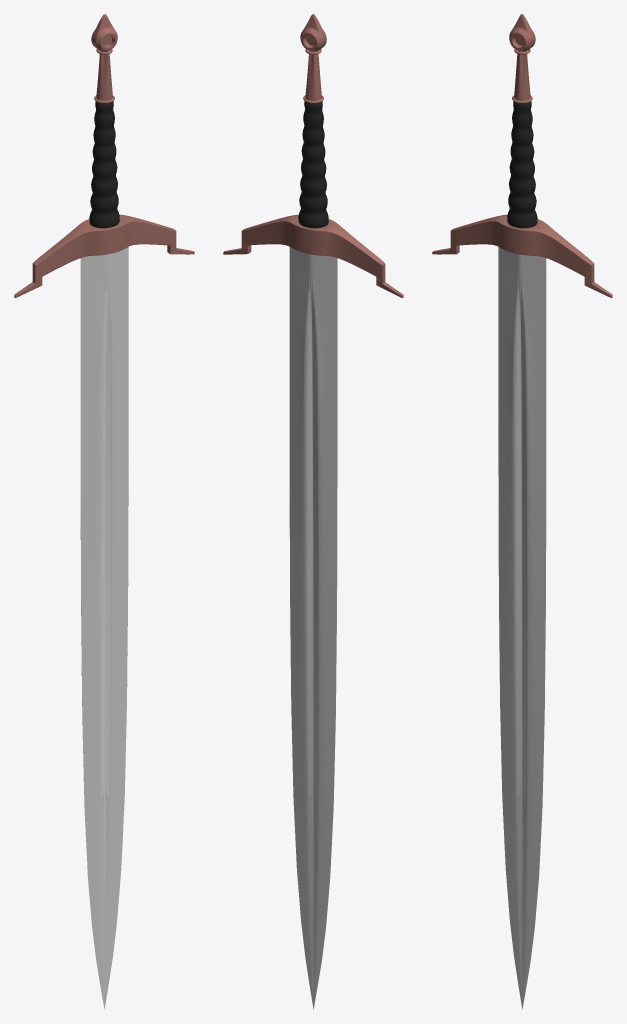
Rendered from Sword.fbx.
3 views of the same model, side by side, from view 1: azimuth 30°, elevation 25°; view 2: azimuth 150°, elevation 25°; view 3: azimuth 330°, elevation 25° (orthographic).
Parts seen in each view (by area): view 1: Cube, Cylinder, Cylinder.001, Cylinder.003, Cylinder.002; view 2: Cube, Cylinder, Cylinder.001, Cylinder.003, Cylinder.002; view 3: Cube, Cylinder, Cylinder.001, Cylinder.003, Cylinder.002.
Boxes of the visible parts, x1,y1,x2,y2 form: Cube: (80, 247, 128, 1009); Cylinder: (14, 214, 194, 297); Cylinder.001: (89, 101, 119, 228); Cylinder.003: (94, 49, 114, 103); Cylinder.002: (91, 14, 117, 51); Cube: (289, 247, 337, 1009); Cylinder: (223, 214, 403, 297); Cylinder.001: (298, 101, 328, 228); Cylinder.003: (303, 49, 323, 103); Cylinder.002: (300, 14, 326, 51); Cube: (498, 247, 546, 1009); Cylinder: (432, 214, 612, 297); Cylinder.001: (507, 101, 537, 228); Cylinder.003: (512, 49, 532, 103); Cylinder.002: (509, 14, 535, 51).
Bounding box in the file's own units: 29.83 × 158 × 4.68.
